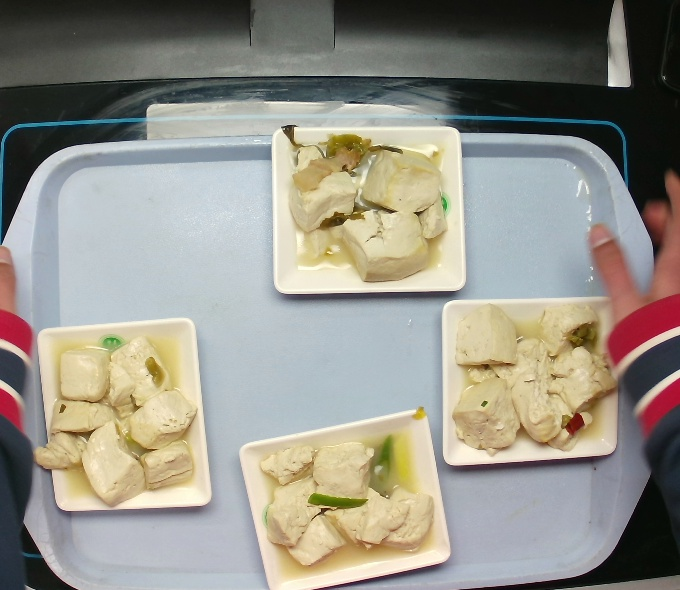wcq-LuDouFu: (26, 331, 203, 516), (448, 296, 629, 462), (254, 428, 439, 575), (281, 130, 454, 287)
